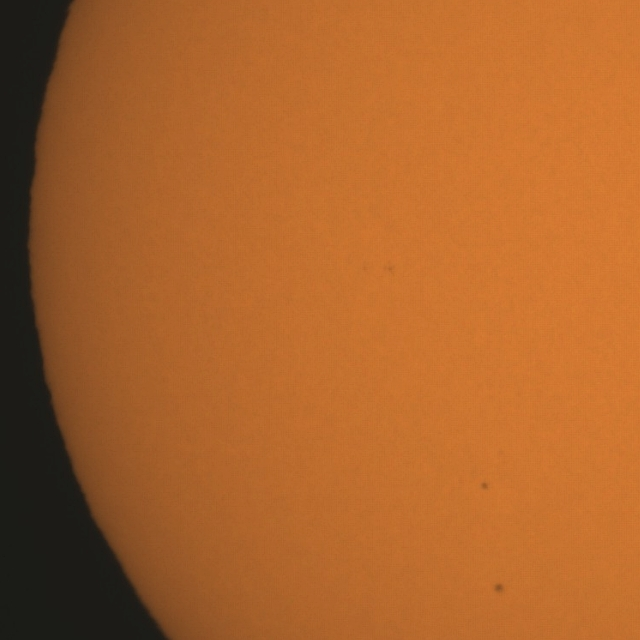sunspot: (492, 582, 506, 596), (480, 481, 490, 492)
